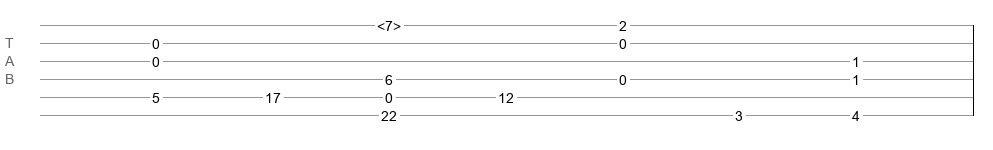0: (152, 54, 160, 64), (152, 36, 160, 46), (385, 90, 393, 100), (619, 72, 627, 82), (619, 36, 627, 46)
1: (852, 54, 860, 64), (852, 72, 860, 82)
12: (498, 90, 514, 100)
17: (265, 90, 281, 100)
2: (619, 18, 627, 28)
22: (381, 108, 397, 118)
3: (735, 108, 743, 118)
4: (852, 108, 860, 118)
5: (152, 90, 160, 100)
6: (385, 72, 393, 82)
harmonic: (377, 18, 401, 28)
